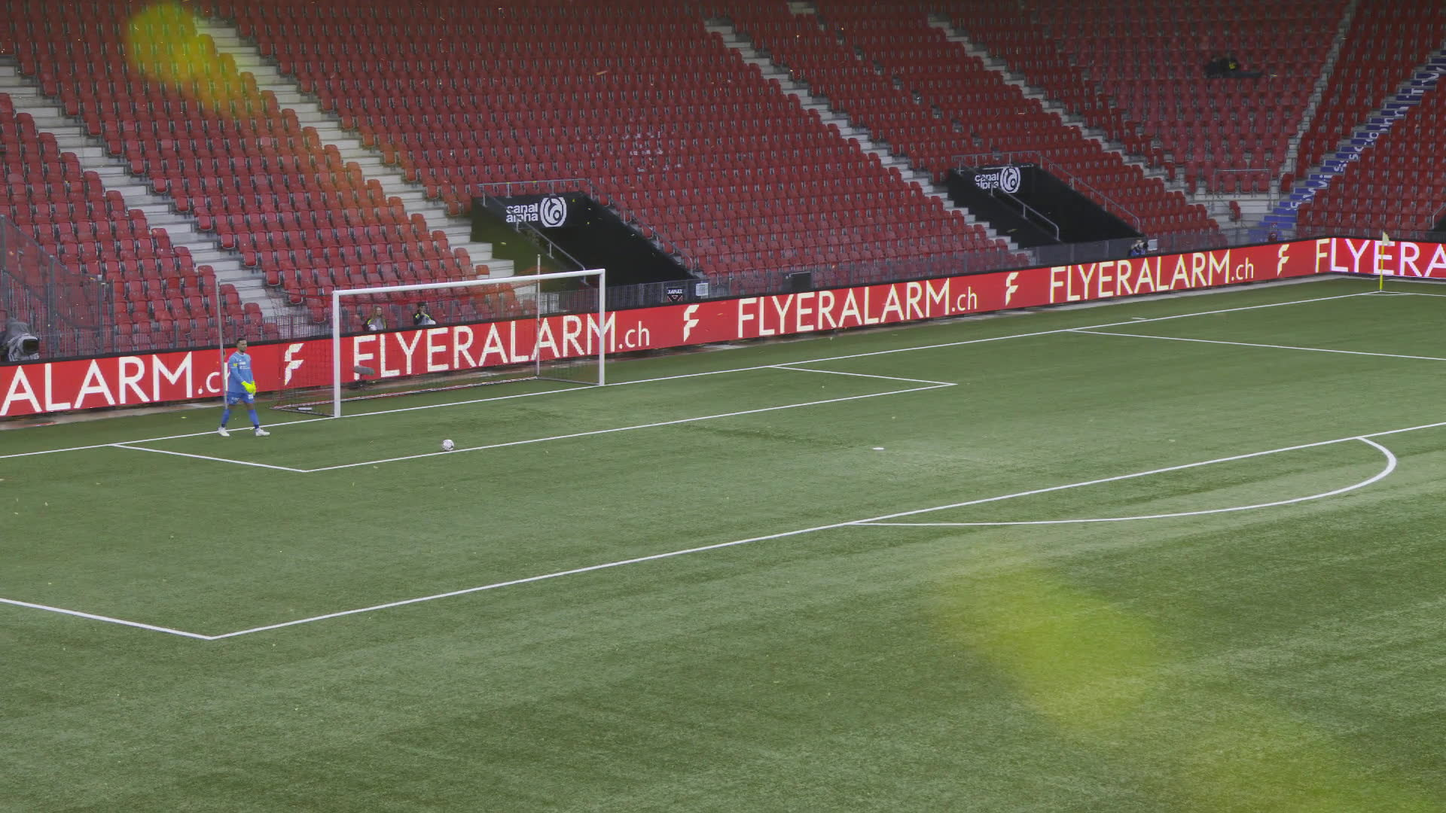ball: (441, 438, 453, 450)
player: (217, 337, 269, 436)
